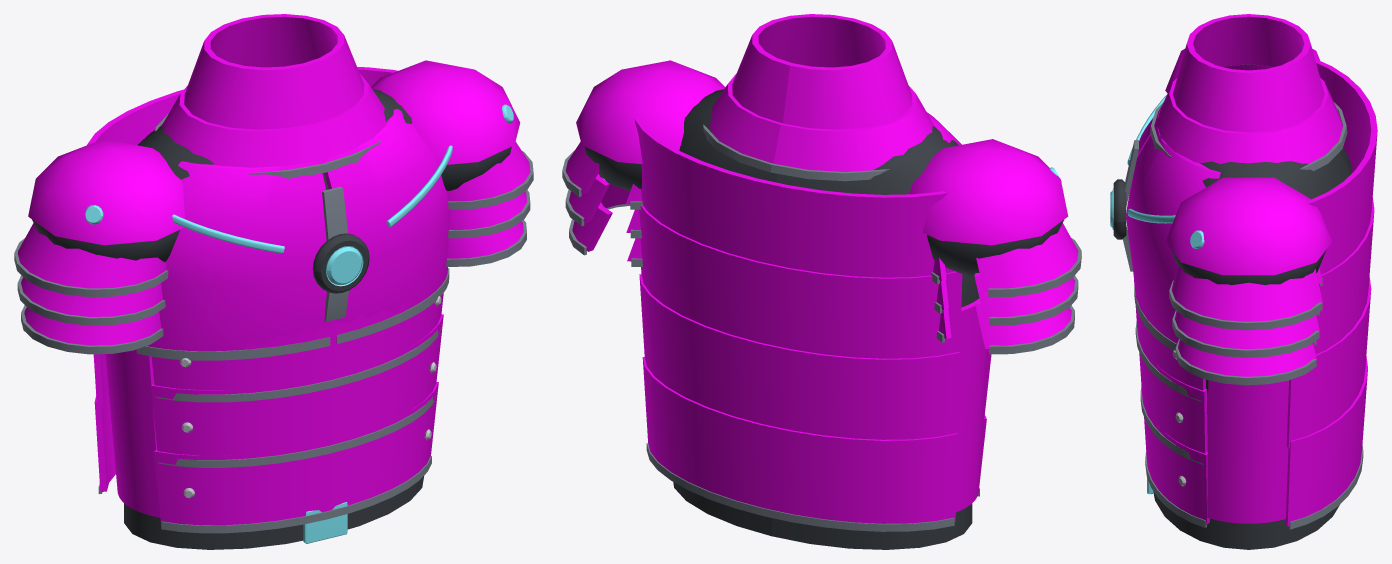
Rendered from objet_armure4_plastron.glb.
3 renders of one model, left to right at view 1: azimuth 30°, elevation 25°; view 2: azimuth 150°, elevation 25°; view 3: azimuth 270°, elevation 25°, orthographic. The views are drawn at different scales.
Parts seen in each view (by area): view 1: poitrine__plastron_teinte.010, ventre__plastron_teinte.010, poitrine__plastron_acier_lisere.002, ventre__plastron_acier_lisere.002, poitrine__plastron_teinte_sombre.008, ventre__plastron_teinte_sombre.008, poitrine__plastron_lueur.002, ventre__plastron_lueur.002; view 2: poitrine__plastron_teinte.010, ventre__plastron_teinte.010, poitrine__plastron_teinte_sombre.008, poitrine__plastron_acier_lisere.002, ventre__plastron_teinte_sombre.008, ventre__plastron_acier_lisere.002; view 3: poitrine__plastron_teinte.010, ventre__plastron_teinte.010, poitrine__plastron_acier_lisere.002, poitrine__plastron_teinte_sombre.008, ventre__plastron_teinte_sombre.008, ventre__plastron_acier_lisere.002, poitrine__plastron_lueur.002.
Boxes of the visible parts, x1,y1,x2,y2 form: poitrine__plastron_teinte.010: (18, 14, 530, 351); ventre__plastron_teinte.010: (93, 293, 443, 525); poitrine__plastron_acier_lisere.002: (14, 113, 533, 360); ventre__plastron_acier_lisere.002: (98, 327, 441, 533); poitrine__plastron_teinte_sombre.008: (32, 89, 511, 293); ventre__plastron_teinte_sombre.008: (124, 476, 423, 549); poitrine__plastron_lueur.002: (85, 104, 513, 286); ventre__plastron_lueur.002: (303, 502, 347, 543); poitrine__plastron_teinte.010: (566, 14, 1078, 358); ventre__plastron_teinte.010: (639, 274, 991, 523); poitrine__plastron_teinte_sombre.008: (584, 89, 1063, 307); poitrine__plastron_acier_lisere.002: (562, 124, 1081, 354); ventre__plastron_teinte_sombre.008: (673, 482, 972, 549); ventre__plastron_acier_lisere.002: (646, 443, 979, 531); poitrine__plastron_teinte.010: (1126, 14, 1377, 376); ventre__plastron_teinte.010: (1134, 277, 1371, 526); poitrine__plastron_acier_lisere.002: (1122, 64, 1347, 385); poitrine__plastron_teinte_sombre.008: (1113, 147, 1352, 285); ventre__plastron_teinte_sombre.008: (1153, 379, 1339, 549); ventre__plastron_acier_lisere.002: (1135, 322, 1363, 529); poitrine__plastron_lueur.002: (1110, 95, 1204, 249).
Bounding box in the file's own units: 0.4163 × 0.3672 × 0.2016.
